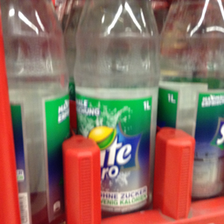soda: (74, 1, 162, 215), (1, 1, 70, 222), (160, 1, 224, 200)
